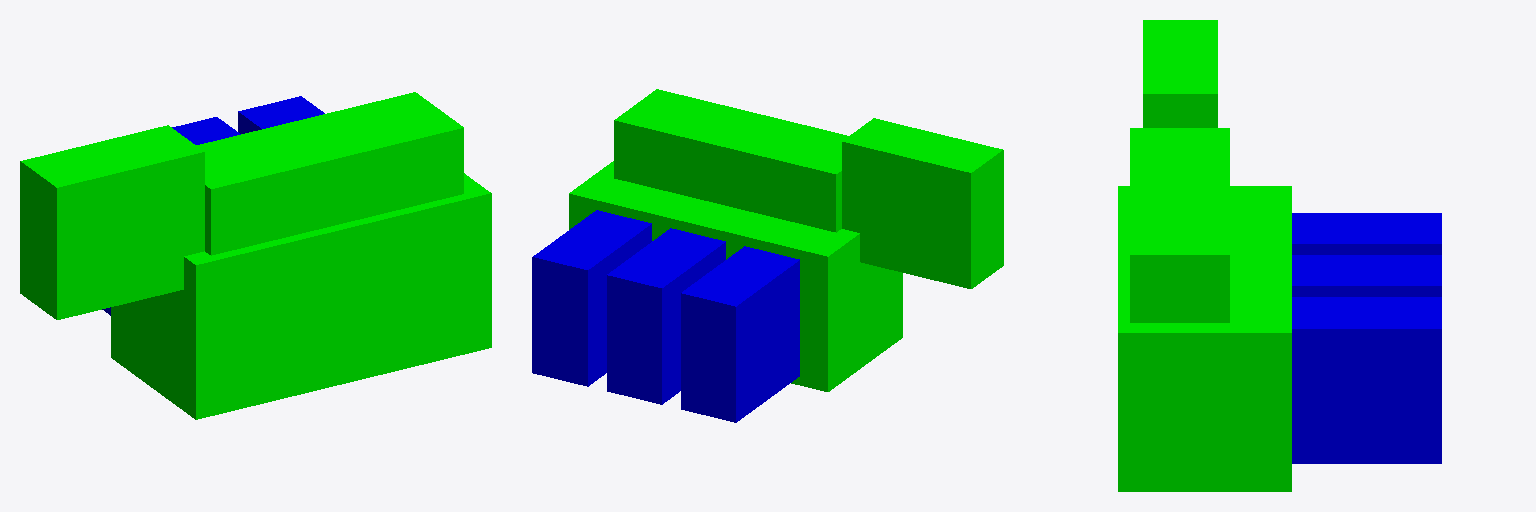
robot.urdf — robot:
<robot name = "robot">
    <link name="root">
        <inertial>
            <origin xyz="0.0 0.0 1.5" rpy="0 0 0"/>
            <mass value="1" />
            <inertia ixx="100" ixy="0" ixz="0" iyy="100" iyz="0" izz="100" />
        </inertial>
        <visual>
            <origin xyz="0.0 0.0 1.5" rpy="0 0 0"/>
            <geometry>
                <box size="0 0 0.0001" />
            </geometry>
            <material name="Green">
                <color rgba="0 1.0 0.0 1.0"/>
            </material>
        </visual>
        <collision>
            <origin xyz="0.0 0.0 1.5" rpy="0 0 0"/>
            <geometry>
                <box size="0 0 0.0001" />
            </geometry>
        </collision>
    </link>
    <joint name="root_000" type="revolute">
       <parent link="root"/>
       <child  link="000"/>
       <origin rpy="0 0 0" xyz="0.0 0.0 1.5" />
     <axis xyz="1 0 0"/>
       <limit effort="0.0" lower="-3.14159" upper="3.14159" velocity="0.0"/>
    </joint>
    <link name="000">
        <inertial>
            <origin xyz="0.0 0.05 0.0" rpy="0 0 0"/>
            <mass value="1" />
            <inertia ixx="100" ixy="0" ixz="0" iyy="100" iyz="0" izz="100" />
        </inertial>
        <visual>
            <origin xyz="0.0 0.05 0.0" rpy="0 0 0"/>
            <geometry>
                <box size="0.7 0.1 0.6" />
            </geometry>
            <material name="Green">
                <color rgba="0 1.0 0.0 1.0"/>
            </material>
        </visual>
        <collision>
            <origin xyz="0.0 0.05 0.0" rpy="0 0 0"/>
            <geometry>
                <box size="0.7 0.1 0.6" />
            </geometry>
        </collision>
    </link>
    <joint name="000_010" type="revolute">
       <parent link="000"/>
       <child  link="010"/>
       <origin rpy="0 0 0" xyz="0.0 0.1 -0.0" />
     <axis xyz="0 1 0"/>
       <limit effort="0.0" lower="-3.14159" upper="3.14159" velocity="0.0"/>
    </joint>
    <link name="010">
        <inertial>
            <origin xyz="0.0 0.05 -0.0" rpy="0 0 0"/>
            <mass value="1" />
            <inertia ixx="100" ixy="0" ixz="0" iyy="100" iyz="0" izz="100" />
        </inertial>
        <visual>
            <origin xyz="0.0 0.05 -0.0" rpy="0 0 0"/>
            <geometry>
                <box size="0.7 0.1 0.6" />
            </geometry>
            <material name="Green">
                <color rgba="0 1.0 0.0 1.0"/>
            </material>
        </visual>
        <collision>
            <origin xyz="0.0 0.05 -0.0" rpy="0 0 0"/>
            <geometry>
                <box size="0.7 0.1 0.6" />
            </geometry>
        </collision>
    </link>
    <joint name="010_020" type="revolute">
       <parent link="010"/>
       <child  link="020"/>
       <origin rpy="0 0 0" xyz="0.0 0.1 -0.0" />
     <axis xyz="0 1 0"/>
       <limit effort="0.0" lower="-3.14159" upper="3.14159" velocity="0.0"/>
    </joint>
    <link name="020">
        <inertial>
            <origin xyz="0.0 0.05 -0.0" rpy="0 0 0"/>
            <mass value="1" />
            <inertia ixx="100" ixy="0" ixz="0" iyy="100" iyz="0" izz="100" />
        </inertial>
        <visual>
            <origin xyz="0.0 0.05 -0.0" rpy="0 0 0"/>
            <geometry>
                <box size="0.7 0.1 0.6" />
            </geometry>
            <material name="Green">
                <color rgba="0 1.0 0.0 1.0"/>
            </material>
        </visual>
        <collision>
            <origin xyz="0.0 0.05 -0.0" rpy="0 0 0"/>
            <geometry>
                <box size="0.7 0.1 0.6" />
            </geometry>
        </collision>
    </link>
    <joint name="020_020-100" type="revolute">
       <parent link="020"/>
       <child  link="020-100"/>
       <origin rpy="0 0 0" xyz="0.35 0.05 -0.0" />
     <axis xyz="1 0 0"/>
       <limit effort="0.0" lower="-3.14159" upper="3.14159" velocity="0.0"/>
    </joint>
    <link name="020-100">
        <inertial>
            <origin xyz="0.2 0.0 -0.0" rpy="0 0 0"/>
            <mass value="1" />
            <inertia ixx="100" ixy="0" ixz="0" iyy="100" iyz="0" izz="100" />
        </inertial>
        <visual>
            <origin xyz="0.2 0.0 -0.0" rpy="0 0 0"/>
            <geometry>
                <box size="0.4 0.2 0.3" />
            </geometry>
            <material name="Green">
                <color rgba="0 1.0 0.0 1.0"/>
            </material>
        </visual>
        <collision>
            <origin xyz="0.2 0.0 -0.0" rpy="0 0 0"/>
            <geometry>
                <box size="0.4 0.2 0.3" />
            </geometry>
        </collision>
    </link>
    <joint name="020-100_020-110" type="revolute">
       <parent link="020-100"/>
       <child  link="020-110"/>
       <origin rpy="0 0 0" xyz="0.4 0.0 -0.0" />
     <axis xyz="1 0 0"/>
       <limit effort="0.0" lower="-3.14159" upper="3.14159" velocity="0.0"/>
    </joint>
    <link name="020-110">
        <inertial>
            <origin xyz="0.2 0.0 -0.0" rpy="0 0 0"/>
            <mass value="1" />
            <inertia ixx="100" ixy="0" ixz="0" iyy="100" iyz="0" izz="100" />
        </inertial>
        <visual>
            <origin xyz="0.2 0.0 -0.0" rpy="0 0 0"/>
            <geometry>
                <box size="0.4 0.2 0.3" />
            </geometry>
            <material name="Green">
                <color rgba="0 1.0 0.0 1.0"/>
            </material>
        </visual>
        <collision>
            <origin xyz="0.2 0.0 -0.0" rpy="0 0 0"/>
            <geometry>
                <box size="0.4 0.2 0.3" />
            </geometry>
        </collision>
    </link>
    <joint name="020-110_020-120" type="revolute">
       <parent link="020-110"/>
       <child  link="020-120"/>
       <origin rpy="0 0 0" xyz="0.4 0.0 -0.0" />
     <axis xyz="1 0 0"/>
       <limit effort="0.0" lower="-3.14159" upper="3.14159" velocity="0.0"/>
    </joint>
    <link name="020-120">
        <inertial>
            <origin xyz="0.2 0.0 -0.0" rpy="0 0 0"/>
            <mass value="1" />
            <inertia ixx="100" ixy="0" ixz="0" iyy="100" iyz="0" izz="100" />
        </inertial>
        <visual>
            <origin xyz="0.2 0.0 -0.0" rpy="0 0 0"/>
            <geometry>
                <box size="0.4 0.2 0.3" />
            </geometry>
            <material name="Green">
                <color rgba="0 1.0 0.0 1.0"/>
            </material>
        </visual>
        <collision>
            <origin xyz="0.2 0.0 -0.0" rpy="0 0 0"/>
            <geometry>
                <box size="0.4 0.2 0.3" />
            </geometry>
        </collision>
    </link>
    <joint name="020-120_020-120-200" type="revolute">
       <parent link="020-120"/>
       <child  link="020-120-200"/>
       <origin rpy="0 0 0" xyz="0.2 0.0 -0.15" />
     <axis xyz="0 0 1"/>
       <limit effort="0.0" lower="-3.14159" upper="3.14159" velocity="0.0"/>
    </joint>
    <link name="020-120-200">
        <inertial>
            <origin xyz="0.0 0.0 -0.35" rpy="0 0 0"/>
            <mass value="1" />
            <inertia ixx="100" ixy="0" ixz="0" iyy="100" iyz="0" izz="100" />
        </inertial>
        <visual>
            <origin xyz="0.0 0.0 -0.35" rpy="0 0 0"/>
            <geometry>
                <box size="0.6 0.7 0.7" />
            </geometry>
            <material name="Green">
                <color rgba="0 1.0 0.0 1.0"/>
            </material>
        </visual>
        <collision>
            <origin xyz="0.0 0.0 -0.35" rpy="0 0 0"/>
            <geometry>
                <box size="0.6 0.7 0.7" />
            </geometry>
        </collision>
    </link>
    <joint name="020-120-200_020-120-200-300" type="revolute">
       <parent link="020-120-200"/>
       <child  link="020-120-200-300"/>
       <origin rpy="0 0 0" xyz="0.0 0.35 -0.35" />
     <axis xyz="0 1 0"/>
       <limit effort="0.0" lower="-3.14159" upper="3.14159" velocity="0.0"/>
    </joint>
    <link name="020-120-200-300">
        <inertial>
            <origin xyz="0.0 0.1 -0.0" rpy="0 0 0"/>
            <mass value="1" />
            <inertia ixx="100" ixy="0" ixz="0" iyy="100" iyz="0" izz="100" />
        </inertial>
        <visual>
            <origin xyz="0.0 0.1 -0.0" rpy="0 0 0"/>
            <geometry>
                <box size="0.3 0.2 0.6" />
            </geometry>
            <material name="Blue">
                <color rgba="0 0.0 1.0 1.0"/>
            </material>
        </visual>
        <collision>
            <origin xyz="0.0 0.1 -0.0" rpy="0 0 0"/>
            <geometry>
                <box size="0.3 0.2 0.6" />
            </geometry>
        </collision>
    </link>
    <joint name="020-120-200-300_020-120-200-310" type="revolute">
       <parent link="020-120-200-300"/>
       <child  link="020-120-200-310"/>
       <origin rpy="0 0 0" xyz="0.0 0.2 -0.0" />
     <axis xyz="0 1 0"/>
       <limit effort="0.0" lower="-3.14159" upper="3.14159" velocity="0.0"/>
    </joint>
    <link name="020-120-200-310">
        <inertial>
            <origin xyz="0.0 0.1 -0.0" rpy="0 0 0"/>
            <mass value="1" />
            <inertia ixx="100" ixy="0" ixz="0" iyy="100" iyz="0" izz="100" />
        </inertial>
        <visual>
            <origin xyz="0.0 0.1 -0.0" rpy="0 0 0"/>
            <geometry>
                <box size="0.3 0.2 0.6" />
            </geometry>
            <material name="Blue">
                <color rgba="0 0.0 1.0 1.0"/>
            </material>
        </visual>
        <collision>
            <origin xyz="0.0 0.1 -0.0" rpy="0 0 0"/>
            <geometry>
                <box size="0.3 0.2 0.6" />
            </geometry>
        </collision>
    </link>
    <joint name="020-120-200-310_020-120-200-320" type="revolute">
       <parent link="020-120-200-310"/>
       <child  link="020-120-200-320"/>
       <origin rpy="0 0 0" xyz="0.0 0.2 -0.0" />
     <axis xyz="0 1 0"/>
       <limit effort="0.0" lower="-3.14159" upper="3.14159" velocity="0.0"/>
    </joint>
    <link name="020-120-200-320">
        <inertial>
            <origin xyz="0.0 0.1 -0.0" rpy="0 0 0"/>
            <mass value="1" />
            <inertia ixx="100" ixy="0" ixz="0" iyy="100" iyz="0" izz="100" />
        </inertial>
        <visual>
            <origin xyz="0.0 0.1 -0.0" rpy="0 0 0"/>
            <geometry>
                <box size="0.3 0.2 0.6" />
            </geometry>
            <material name="Blue">
                <color rgba="0 0.0 1.0 1.0"/>
            </material>
        </visual>
        <collision>
            <origin xyz="0.0 0.1 -0.0" rpy="0 0 0"/>
            <geometry>
                <box size="0.3 0.2 0.6" />
            </geometry>
        </collision>
    </link>
    <joint name="020-110_020-110-200" type="revolute">
       <parent link="020-110"/>
       <child  link="020-110-200"/>
       <origin rpy="0 0 0" xyz="0.2 0.0 -0.15" />
     <axis xyz="0 0 1"/>
       <limit effort="0.0" lower="-3.14159" upper="3.14159" velocity="0.0"/>
    </joint>
    <link name="020-110-200">
        <inertial>
            <origin xyz="0.0 0.0 -0.35" rpy="0 0 0"/>
            <mass value="1" />
            <inertia ixx="100" ixy="0" ixz="0" iyy="100" iyz="0" izz="100" />
        </inertial>
        <visual>
            <origin xyz="0.0 0.0 -0.35" rpy="0 0 0"/>
            <geometry>
                <box size="0.6 0.7 0.7" />
            </geometry>
            <material name="Green">
                <color rgba="0 1.0 0.0 1.0"/>
            </material>
        </visual>
        <collision>
            <origin xyz="0.0 0.0 -0.35" rpy="0 0 0"/>
            <geometry>
                <box size="0.6 0.7 0.7" />
            </geometry>
        </collision>
    </link>
    <joint name="020-110-200_020-110-200-300" type="revolute">
       <parent link="020-110-200"/>
       <child  link="020-110-200-300"/>
       <origin rpy="0 0 0" xyz="0.0 0.35 -0.35" />
     <axis xyz="0 1 0"/>
       <limit effort="0.0" lower="-3.14159" upper="3.14159" velocity="0.0"/>
    </joint>
    <link name="020-110-200-300">
        <inertial>
            <origin xyz="0.0 0.1 -0.0" rpy="0 0 0"/>
            <mass value="1" />
            <inertia ixx="100" ixy="0" ixz="0" iyy="100" iyz="0" izz="100" />
        </inertial>
        <visual>
            <origin xyz="0.0 0.1 -0.0" rpy="0 0 0"/>
            <geometry>
                <box size="0.3 0.2 0.6" />
            </geometry>
            <material name="Blue">
                <color rgba="0 0.0 1.0 1.0"/>
            </material>
        </visual>
        <collision>
            <origin xyz="0.0 0.1 -0.0" rpy="0 0 0"/>
            <geometry>
                <box size="0.3 0.2 0.6" />
            </geometry>
        </collision>
    </link>
    <joint name="020-110-200-300_020-110-200-310" type="revolute">
       <parent link="020-110-200-300"/>
       <child  link="020-110-200-310"/>
       <origin rpy="0 0 0" xyz="0.0 0.2 -0.0" />
     <axis xyz="0 1 0"/>
       <limit effort="0.0" lower="-3.14159" upper="3.14159" velocity="0.0"/>
    </joint>
    <link name="020-110-200-310">
        <inertial>
            <origin xyz="0.0 0.1 -0.0" rpy="0 0 0"/>
            <mass value="1" />
            <inertia ixx="100" ixy="0" ixz="0" iyy="100" iyz="0" izz="100" />
        </inertial>
        <visual>
            <origin xyz="0.0 0.1 -0.0" rpy="0 0 0"/>
            <geometry>
                <box size="0.3 0.2 0.6" />
            </geometry>
            <material name="Blue">
                <color rgba="0 0.0 1.0 1.0"/>
            </material>
        </visual>
        <collision>
            <origin xyz="0.0 0.1 -0.0" rpy="0 0 0"/>
            <geometry>
                <box size="0.3 0.2 0.6" />
            </geometry>
        </collision>
    </link>
    <joint name="020-110-200-310_020-110-200-320" type="revolute">
       <parent link="020-110-200-310"/>
       <child  link="020-110-200-320"/>
       <origin rpy="0 0 0" xyz="0.0 0.2 -0.0" />
     <axis xyz="0 1 0"/>
       <limit effort="0.0" lower="-3.14159" upper="3.14159" velocity="0.0"/>
    </joint>
    <link name="020-110-200-320">
        <inertial>
            <origin xyz="0.0 0.1 -0.0" rpy="0 0 0"/>
            <mass value="1" />
            <inertia ixx="100" ixy="0" ixz="0" iyy="100" iyz="0" izz="100" />
        </inertial>
        <visual>
            <origin xyz="0.0 0.1 -0.0" rpy="0 0 0"/>
            <geometry>
                <box size="0.3 0.2 0.6" />
            </geometry>
            <material name="Blue">
                <color rgba="0 0.0 1.0 1.0"/>
            </material>
        </visual>
        <collision>
            <origin xyz="0.0 0.1 -0.0" rpy="0 0 0"/>
            <geometry>
                <box size="0.3 0.2 0.6" />
            </geometry>
        </collision>
    </link>
    <joint name="020-100_020-100-200" type="revolute">
       <parent link="020-100"/>
       <child  link="020-100-200"/>
       <origin rpy="0 0 0" xyz="0.2 0.0 -0.15" />
     <axis xyz="0 0 1"/>
       <limit effort="0.0" lower="-3.14159" upper="3.14159" velocity="0.0"/>
    </joint>
    <link name="020-100-200">
        <inertial>
            <origin xyz="0.0 0.0 -0.35" rpy="0 0 0"/>
            <mass value="1" />
            <inertia ixx="100" ixy="0" ixz="0" iyy="100" iyz="0" izz="100" />
        </inertial>
        <visual>
            <origin xyz="0.0 0.0 -0.35" rpy="0 0 0"/>
            <geometry>
                <box size="0.6 0.7 0.7" />
            </geometry>
            <material name="Green">
                <color rgba="0 1.0 0.0 1.0"/>
            </material>
        </visual>
        <collision>
            <origin xyz="0.0 0.0 -0.35" rpy="0 0 0"/>
            <geometry>
                <box size="0.6 0.7 0.7" />
            </geometry>
        </collision>
    </link>
    <joint name="020-100-200_020-100-200-300" type="revolute">
       <parent link="020-100-200"/>
       <child  link="020-100-200-300"/>
       <origin rpy="0 0 0" xyz="0.0 0.35 -0.35" />
     <axis xyz="0 1 0"/>
       <limit effort="0.0" lower="-3.14159" upper="3.14159" velocity="0.0"/>
    </joint>
    <link name="020-100-200-300">
        <inertial>
            <origin xyz="0.0 0.1 -0.0" rpy="0 0 0"/>
            <mass value="1" />
            <inertia ixx="100" ixy="0" ixz="0" iyy="100" iyz="0" izz="100" />
        </inertial>
        <visual>
            <origin xyz="0.0 0.1 -0.0" rpy="0 0 0"/>
            <geometry>
                <box size="0.3 0.2 0.6" />
            </geometry>
            <material name="Blue">
                <color rgba="0 0.0 1.0 1.0"/>
            </material>
        </visual>
        <collision>
            <origin xyz="0.0 0.1 -0.0" rpy="0 0 0"/>
            <geometry>
                <box size="0.3 0.2 0.6" />
            </geometry>
        </collision>
    </link>
    <joint name="020-100-200-300_020-100-200-310" type="revolute">
       <parent link="020-100-200-300"/>
       <child  link="020-100-200-310"/>
       <origin rpy="0 0 0" xyz="0.0 0.2 -0.0" />
     <axis xyz="0 1 0"/>
       <limit effort="0.0" lower="-3.14159" upper="3.14159" velocity="0.0"/>
    </joint>
    <link name="020-100-200-310">
        <inertial>
            <origin xyz="0.0 0.1 -0.0" rpy="0 0 0"/>
            <mass value="1" />
            <inertia ixx="100" ixy="0" ixz="0" iyy="100" iyz="0" izz="100" />
        </inertial>
        <visual>
            <origin xyz="0.0 0.1 -0.0" rpy="0 0 0"/>
            <geometry>
                <box size="0.3 0.2 0.6" />
            </geometry>
            <material name="Blue">
                <color rgba="0 0.0 1.0 1.0"/>
            </material>
        </visual>
        <collision>
            <origin xyz="0.0 0.1 -0.0" rpy="0 0 0"/>
            <geometry>
                <box size="0.3 0.2 0.6" />
            </geometry>
        </collision>
    </link>
    <joint name="020-100-200-310_020-100-200-320" type="revolute">
       <parent link="020-100-200-310"/>
       <child  link="020-100-200-320"/>
       <origin rpy="0 0 0" xyz="0.0 0.2 -0.0" />
     <axis xyz="0 1 0"/>
       <limit effort="0.0" lower="-3.14159" upper="3.14159" velocity="0.0"/>
    </joint>
    <link name="020-100-200-320">
        <inertial>
            <origin xyz="0.0 0.1 -0.0" rpy="0 0 0"/>
            <mass value="1" />
            <inertia ixx="100" ixy="0" ixz="0" iyy="100" iyz="0" izz="100" />
        </inertial>
        <visual>
            <origin xyz="0.0 0.1 -0.0" rpy="0 0 0"/>
            <geometry>
                <box size="0.3 0.2 0.6" />
            </geometry>
            <material name="Blue">
                <color rgba="0 0.0 1.0 1.0"/>
            </material>
        </visual>
        <collision>
            <origin xyz="0.0 0.1 -0.0" rpy="0 0 0"/>
            <geometry>
                <box size="0.3 0.2 0.6" />
            </geometry>
        </collision>
    </link>
    <joint name="000_000-100" type="revolute">
       <parent link="000"/>
       <child  link="000-100"/>
       <origin rpy="0 0 0" xyz="0.35 0.05 -0.0" />
     <axis xyz="1 0 0"/>
       <limit effort="0.0" lower="-3.14159" upper="3.14159" velocity="0.0"/>
    </joint>
    <link name="000-100">
        <inertial>
            <origin xyz="0.2 0.0 -0.0" rpy="0 0 0"/>
            <mass value="1" />
            <inertia ixx="100" ixy="0" ixz="0" iyy="100" iyz="0" izz="100" />
        </inertial>
        <visual>
            <origin xyz="0.2 0.0 -0.0" rpy="0 0 0"/>
            <geometry>
                <box size="0.4 0.2 0.3" />
            </geometry>
            <material name="Green">
                <color rgba="0 1.0 0.0 1.0"/>
            </material>
        </visual>
        <collision>
            <origin xyz="0.2 0.0 -0.0" rpy="0 0 0"/>
            <geometry>
                <box size="0.4 0.2 0.3" />
            </geometry>
        </collision>
    </link>
    <joint name="000-100_000-110" type="revolute">
       <parent link="000-100"/>
       <child  link="000-110"/>
       <origin rpy="0 0 0" xyz="0.4 0.0 -0.0" />
     <axis xyz="1 0 0"/>
       <limit effort="0.0" lower="-3.14159" upper="3.14159" velocity="0.0"/>
    </joint>
    <link name="000-110">
        <inertial>
            <origin xyz="0.2 0.0 -0.0" rpy="0 0 0"/>
            <mass value="1" />
            <inertia ixx="100" ixy="0" ixz="0" iyy="100" iyz="0" izz="100" />
        </inertial>
        <visual>
            <origin xyz="0.2 0.0 -0.0" rpy="0 0 0"/>
            <geometry>
                <box size="0.4 0.2 0.3" />
            </geometry>
            <material name="Green">
                <color rgba="0 1.0 0.0 1.0"/>
            </material>
        </visual>
        <collision>
            <origin xyz="0.2 0.0 -0.0" rpy="0 0 0"/>
            <geometry>
                <box size="0.4 0.2 0.3" />
            </geometry>
        </collision>
    </link>
    <joint name="000-110_000-120" type="revolute">
       <parent link="000-110"/>
       <child  link="000-120"/>
       <origin rpy="0 0 0" xyz="0.4 0.0 -0.0" />
     <axis xyz="1 0 0"/>
       <limit effort="0.0" lower="-3.14159" upper="3.14159" velocity="0.0"/>
    </joint>
    <link name="000-120">
        <inertial>
            <origin xyz="0.2 0.0 -0.0" rpy="0 0 0"/>
            <mass value="1" />
            <inertia ixx="100" ixy="0" ixz="0" iyy="100" iyz="0" izz="100" />
        </inertial>
        <visual>
            <origin xyz="0.2 0.0 -0.0" rpy="0 0 0"/>
            <geometry>
                <box size="0.4 0.2 0.3" />
            </geometry>
            <material name="Green">
                <color rgba="0 1.0 0.0 1.0"/>
            </material>
        </visual>
        <collision>
            <origin xyz="0.2 0.0 -0.0" rpy="0 0 0"/>
            <geometry>
                <box size="0.4 0.2 0.3" />
            </geometry>
        </collision>
    </link>
</robot>

--- Render facts (derived) ---
The picture shows the robot from 3 angles, left to right: view 1: azimuth 30°, elevation 25°; view 2: azimuth 150°, elevation 25°; view 3: azimuth 270°, elevation 25°; orthographic projection.
Robot: robot — 22 links, 21 joints (21 revolute); root link root; default pose: all joints at 0.
Links seen in each view (by area): view 1: [phone redacted] (×5), 000, 000-100, 000-110, 000-120, 020, 010, 020-110, 020-120, 020-100; view 2: [phone redacted] (×12), 020, 020-100, 020-110, 020-120, 000, 010, 000-110, 000-120, 000-100; view 3: [phone redacted] (×12), 020-120, 000-120, 000, 010, 020, 020-110, 000-110, 020-100, 000-100.
Link boxes in pixels (left/top/right/bottom): [phone redacted] (×5): left=111, top=96, right=491, bottom=419; 000: left=45, top=143, right=204, bottom=319; 000-100: left=205, top=151, right=294, bottom=255; 000-110: left=272, top=130, right=379, bottom=234; 000-120: left=356, top=110, right=463, bottom=213; 020: left=20, top=125, right=179, bottom=302; 010: left=33, top=134, right=191, bottom=310; 020-110: left=247, top=113, right=354, bottom=150; 020-120: left=331, top=92, right=439, bottom=129; 020-100: left=196, top=133, right=269, bottom=166; [phone redacted] (×12): left=532, top=161, right=902, bottom=422; 020: left=842, top=134, right=981, bottom=288; 020-100: left=762, top=141, right=841, bottom=232; 020-110: left=688, top=123, right=782, bottom=213; 020-120: left=614, top=105, right=708, bottom=195; 000: left=864, top=118, right=1003, bottom=272; 010: left=853, top=126, right=992, bottom=280; 000-110: left=710, top=107, right=804, bottom=140; 000-120: left=636, top=89, right=729, bottom=122; 000-100: left=784, top=125, right=848, bottom=154; [phone redacted] (×12): left=1118, top=186, right=1441, bottom=491; 020-120: left=1180, top=213, right=1229, bottom=322; 000-120: left=1130, top=213, right=1179, bottom=322; 000: left=1143, top=20, right=1167, bottom=127; 010: left=1168, top=20, right=1192, bottom=127; 020: left=1193, top=20, right=1217, bottom=127; 020-110: left=1180, top=170, right=1229, bottom=212; 000-110: left=1130, top=170, right=1179, bottom=212; 020-100: left=1180, top=128, right=1229, bottom=169; 000-100: left=1130, top=128, right=1179, bottom=169.
Bounding box of the posed robot: 2 × 1.3 × 1.15 m (x, y, z).
Geometry: primitives only (box / cylinder / sphere), no mesh files.
